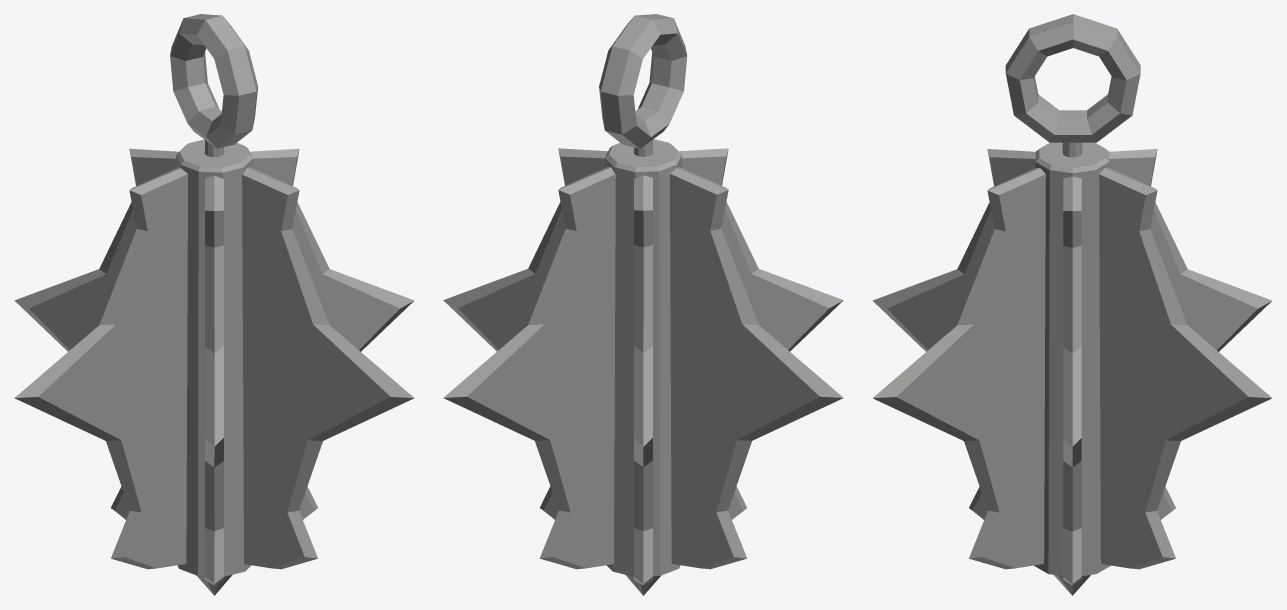
Rendered from MetalPendulumTrap_10.fbx.
The picture shows the model from 3 angles, left to right: view 1: azimuth 30°, elevation 25°; view 2: azimuth 150°, elevation 25°; view 3: azimuth 270°, elevation 25°; orthographic projection.
Parts seen in each view (by area): view 1: MetalPendulumTrap_10; view 2: MetalPendulumTrap_10; view 3: MetalPendulumTrap_10.
Part boxes in pixels (<box>): MetalPendulumTrap_10: <box>14,14,414,595</box>; MetalPendulumTrap_10: <box>443,14,843,595</box>; MetalPendulumTrap_10: <box>872,14,1272,595</box>.
Size of the model in its own units: 43.45 by 59.95 by 37.63.
